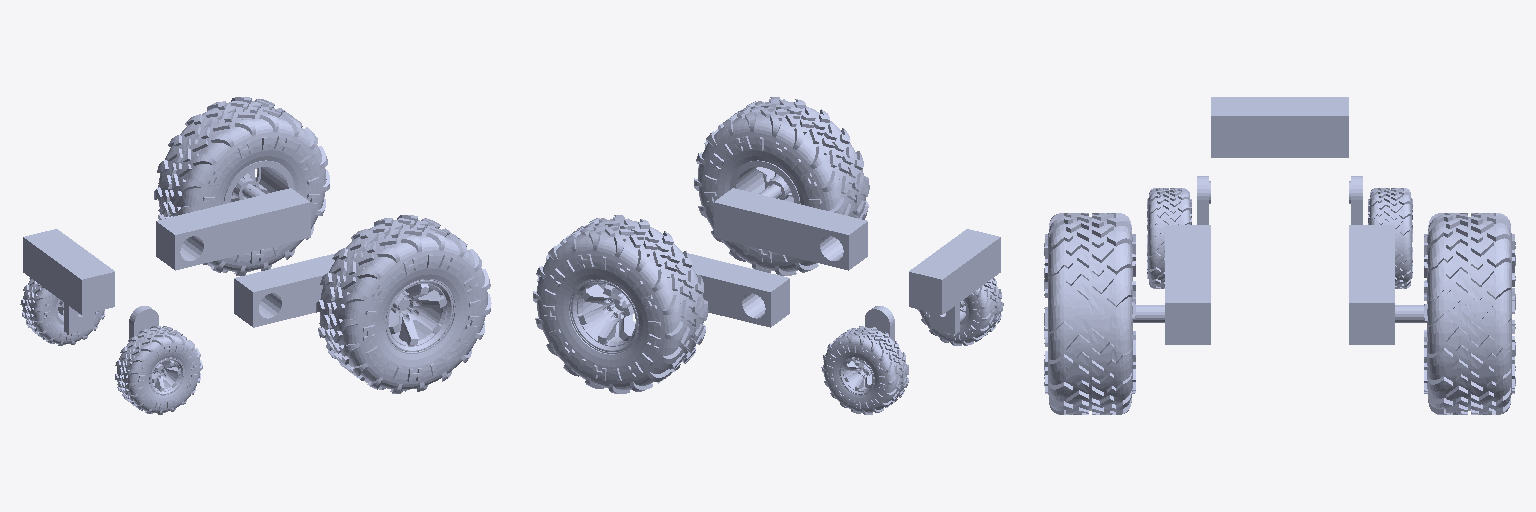
URDF robot description (optimus_front_down):
<?xml version="1.0" encoding="utf-8"?>
<!-- This URDF was automatically created by SolidWorks to URDF Exporter! Originally created by [author] ([email redacted]) 
     Commit Version: 1.6.0-1-g15f4949  Build Version: 1.6.7594.29634
     For more information, please see http://wiki.ros.org/sw_urdf_exporter -->
<robot
  name="optimus_front_down">
  <link
    name="optimus_front_down">
    <inertial>
      <origin
        xyz="-0.02527 -5.6758E-18 0.3"
        rpy="0 0 0" />
      <mass
        value="122.44" />
      <inertia
        ixx="4.8934"
        ixy="-7.3008E-17"
        ixz="-4.0117E-16"
        iyy="15.407"
        iyz="2.0119E-16"
        izz="11.325" />
    </inertial>
    <visual>
      <origin
        xyz="0 0 0"
        rpy="0 0 0" />
      <geometry>
        <mesh
          filename="package://optimus_front_down/meshes/optimus_front_down.STL" />
      </geometry>
      <material
        name="">
        <color
          rgba="0.79216 0.81961 0.93333 1" />
      </material>
    </visual>
    <collision>
      <origin
        xyz="0 0 0"
        rpy="0 0 0" />
      <geometry>
        <mesh
          filename="package://optimus_front_down/meshes/optimus_front_down.STL" />
      </geometry>
    </collision>
  </link>
  <link
    name="FR_outer_wheel_connector_link">
    <inertial>
      <origin
        xyz="0.322282451468766 -0.1 2.38352095543413E-17"
        rpy="0 0 0" />
      <mass
        value="27.9159295503332" />
      <inertia
        ixx="0.195546159327483"
        ixy="-5.51991460593637E-17"
        ixz="1.4203553273733E-17"
        iyy="1.42355930878676"
        iyz="4.16333634234392E-19"
        izz="1.4141193464615" />
    </inertial>
    <visual>
      <origin
        xyz="0 0 0"
        rpy="0 0 0" />
      <geometry>
        <mesh
          filename="package://optimus_front_down/meshes/FR_outer_wheel_connector_link.STL" />
      </geometry>
      <material
        name="">
        <color
          rgba="0.792156862745098 0.819607843137255 0.933333333333333 1" />
      </material>
    </visual>
    <collision>
      <origin
        xyz="0 0 0"
        rpy="0 0 0" />
      <geometry>
        <mesh
          filename="package://optimus_front_down/meshes/FR_outer_wheel_connector_link.STL" />
      </geometry>
    </collision>
  </link>
  
  <joint
    name="FR_outer_wheel_connector_joint"
    type="revolute">
    <origin
      xyz="0.4 -0.3 0"
      rpy="0 0 0" />
    <parent
      link="optimus_front_down" />
    <child
      link="FR_outer_wheel_connector_link" />
    <axis
      xyz="0 1 0" />
    <limit
      lower="0.0"
      upper="1.57"
      effort="100"
      velocity="100" />
  </joint>

  <transmission name="FR_outer_wheel_connector_trans">
    <type>transmission_interface/SimpleTransmission</type>
    <joint name="FR_outer_wheel_connector_joint">
      <hardwareInterface>hardware_interface/PositionJointInterface</hardwareInterface>
    </joint>
    <actuator name="FR_outer_wheel_connector_actuator">
      <mechanicalReduction>1</mechanicalReduction>
      <hardwareInterface>hardware_interface/PositionJointInterface</hardwareInterface>
    </actuator>
  </transmission>

  <link
    name="FR_outer_wheel_link">
    <inertial>
      <origin
        xyz="2.18856437395054E-06 -0.512347882208055 2.35883896340653E-06"
        rpy="0 0 0" />
      <mass
        value="41.7619829259394" />
      <inertia
        ixx="2.98739844435001"
        ixy="5.19731246049959E-06"
        ixz="9.47049445565518E-06"
        iyy="4.63242150319623"
        iyz="5.59291085026648E-06"
        izz="2.98739982714818" />
    </inertial>
    <visual>
      <origin
        xyz="0 0 0"
        rpy="0 0 0" />
      <geometry>
        <mesh
          filename="package://optimus_front_down/meshes/FR_outer_wheel_link.STL" />
      </geometry>
      <material
        name="">
        <color
          rgba="0.792156862745098 0.819607843137255 0.933333333333333 1" />
      </material>
    </visual>
    <collision>
      <origin
        xyz="0 0 0"
        rpy="0 0 0" />
      <geometry>
        <mesh
          filename="package://optimus_front_down/meshes/FR_outer_wheel_link.STL" />
      </geometry>
    </collision>
  </link>
  
  <joint
    name="FR_outer_wheel_joint"
    type="continuous">
    <origin
      xyz="0.6 0 0"
      rpy="0 0 0" />
    <parent
      link="FR_outer_wheel_connector_link" />
    <child
      link="FR_outer_wheel_link" />
    <axis
      xyz="0 1 0" />
  </joint>


  <transmission name="FR_outer_wheel_trans">
    <type>transmission_interface/SimpleTransmission</type>
    <joint name="FR_outer_wheel_joint">
      <hardwareInterface>hardware_interface/VelocityJointInterface</hardwareInterface>
    </joint>
    <actuator name="FR_outer_wheel_actuator">
      <mechanicalReduction>50</mechanicalReduction>
      <hardwareInterface>hardware_interface/VelocityJointInterface</hardwareInterface>
    </actuator>
  </transmission>

  <link
    name="FL_outer_wheel_connector_link">
    <inertial>
      <origin
        xyz="0.322282451468765 0.1 5.3569245319562E-17"
        rpy="0 0 0" />
      <mass
        value="27.9159295503333" />
      <inertia
        ixx="0.195546159327483"
        ixy="-2.09846168286331E-17"
        ixz="7.16001224236828E-17"
        iyy="1.42355930878677"
        iyz="2.044660737018E-17"
        izz="1.4141193464615" />
    </inertial>
    <visual>
      <origin
        xyz="0 0 0"
        rpy="0 0 0" />
      <geometry>
        <mesh
          filename="package://optimus_front_down/meshes/FL_outer_wheel_connector_link.STL" />
      </geometry>
      <material
        name="">
        <color
          rgba="0.792156862745098 0.819607843137255 0.933333333333333 1" />
      </material>
    </visual>
    <collision>
      <origin
        xyz="0 0 0"
        rpy="0 0 0" />
      <geometry>
        <mesh
          filename="package://optimus_front_down/meshes/FL_outer_wheel_connector_link.STL" />
      </geometry>
    </collision>
  </link>
  
  <joint
    name="FL_outer_wheel_connector_joint"
    type="revolute">
    <origin
      xyz="0.4 0.3 0"
      rpy="0 0 0" />
    <parent
      link="optimus_front_down" />
    <child
      link="FL_outer_wheel_connector_link" />
    <axis
      xyz="0 1 0" />
    <limit
      lower="0"
      upper="1.57"
      effort="100"
      velocity="100" />
  </joint>

  <transmission name="FL_outer_wheel_connector_trans">
    <type>transmission_interface/SimpleTransmission</type>
    <joint name="FL_outer_wheel_connector_joint">
      <hardwareInterface>hardware_interface/PositionJointInterface</hardwareInterface>
    </joint>
    <actuator name="FL_outer_wheel_connector_actuator">
      <mechanicalReduction>1</mechanicalReduction>
      <hardwareInterface>hardware_interface/PositionJointInterface</hardwareInterface>
    </actuator>
  </transmission>

  <link
    name="FL_outer_wheel_link">
    <inertial>
      <origin
        xyz="-1.93900962541793E-06 0.512347882001405 2.56779508268048E-06"
        rpy="0 0 0" />
      <mass
        value="41.7619827337532" />
      <inertia
        ixx="2.98739655561663"
        ixy="4.60587625730364E-06"
        ixz="-9.13843104496429E-06"
        iyy="4.63242150289247"
        iyz="-6.08912613205442E-06"
        izz="2.98740171544462" />
    </inertial>
    <visual>
      <origin
        xyz="0 0 0"
        rpy="0 0 0" />
      <geometry>
        <mesh
          filename="package://optimus_front_down/meshes/FL_outer_wheel_link.STL" />
      </geometry>
      <material
        name="">
        <color
          rgba="0.792156862745098 0.819607843137255 0.933333333333333 1" />
      </material>
    </visual>
    <collision>
      <origin
        xyz="0 0 0"
        rpy="0 0 0" />
      <geometry>
        <mesh
          filename="package://optimus_front_down/meshes/FL_outer_wheel_link.STL" />
      </geometry>
    </collision>
  </link>
  
  <joint
    name="FL_outer_wheel_joint"
    type="continuous">
    <origin
      xyz="0.6 0 0"
      rpy="0 0 0" />
    <parent
      link="FL_outer_wheel_connector_link" />
    <child
      link="FL_outer_wheel_link" />
    <axis
      xyz="0 1 0" />
  </joint>

  <transmission name="FL_outer_wheel_trans">
    <type>transmission_interface/SimpleTransmission</type>
    <joint name="FL_outer_wheel_joint">
      <hardwareInterface>hardware_interface/VelocityJointInterface</hardwareInterface>
    </joint>
    <actuator name="FL_outer_wheel_actuator">
      <mechanicalReduction>50</mechanicalReduction>
      <hardwareInterface>hardware_interface/VelocityJointInterface</hardwareInterface>
    </actuator>
  </transmission>

  <link
    name="FR_inner_wheel_connector_link">
    <inertial>
      <origin
        xyz="0 -0.034175 -0.12462"
        rpy="0 0 0" />
      <mass
        value="2.8575" />
      <inertia
        ixx="0.035811"
        ixy="-2.7361E-21"
        ixz="2.9604E-19"
        iyy="0.040326"
        iyz="-0.00029364"
        izz="0.0058124" />
    </inertial>
    <visual>
      <origin
        xyz="0 0 0"
        rpy="0 0 0" />
      <geometry>
        <mesh
          filename="package://optimus_front_down/meshes/FR_inner_wheel_connector_link.STL" />
      </geometry>
      <material
        name="">
        <color
          rgba="0.79216 0.81961 0.93333 1" />
      </material>
    </visual>
    <collision>
      <origin
        xyz="0 0 0"
        rpy="0 0 0" />
      <geometry>
        <mesh
          filename="package://optimus_front_down/meshes/FR_inner_wheel_connector_link.STL" />
      </geometry>
    </collision>
  </link>
  
  <joint
    name="FR_inner_wheel_connector_joint"
    type="revolute">
    <origin
      xyz="-0.25 -0.3 0"
      rpy="0 0 0" />
    <parent
      link="optimus_front_down" />
    <child
      link="FR_inner_wheel_connector_link" />
    <axis
      xyz="0 -1 0" />
    <limit
      lower="0"
      upper="1.57"
      effort="100"
      velocity="100" />
  </joint>

  <transmission name="FR_inner_wheel_connector_trans">
    <type>transmission_interface/SimpleTransmission</type>
    <joint name="FR_inner_wheel_connector_joint">
      <hardwareInterface>hardware_interface/PositionJointInterface</hardwareInterface>
    </joint>
    <actuator name="FR_inner_wheel_connector_actuator">
      <mechanicalReduction>1</mechanicalReduction>
      <hardwareInterface>hardware_interface/PositionJointInterface</hardwareInterface>
    </actuator>
  </transmission>

  <link
    name="FR_inner_wheel_link">
    <inertial>
      <origin
        xyz="3.1417E-07 -0.12256 -3.3367E-06"
        rpy="0 0 0" />
      <mass
        value="5.005" />
      <inertia
        ixx="0.092406"
        ixy="2.2156E-08"
        ixz="-5.4838E-08"
        iyy="0.14472"
        iyz="-2.3756E-07"
        izz="0.092407" />
    </inertial>
    <visual>
      <origin
        xyz="0 0 0"
        rpy="0 0 0" />
      <geometry>
        <mesh
          filename="package://optimus_front_down/meshes/FR_inner_wheel_link.STL" />
      </geometry>
      <material
        name="">
        <color
          rgba="0.79216 0.81961 0.93333 1" />
      </material>
    </visual>
    <collision>
      <origin
        xyz="0 0 0"
        rpy="0 0 0" />
      <geometry>
        <mesh
          filename="package://optimus_front_down/meshes/FR_inner_wheel_link.STL" />
      </geometry>
    </collision>
  </link>
  
  <joint
    name="FR_inner_wheel_joint"
    type="continuous">
    <origin
      xyz="0 -0.06 -0.22"
      rpy="0 0 0" />
    <parent
      link="FR_inner_wheel_connector_link" />
    <child
      link="FR_inner_wheel_link" />
    <axis
      xyz="0 1 0" />
  </joint>

  <transmission name="FR_inner_wheel_trans">
    <type>transmission_interface/SimpleTransmission</type>
    <joint name="FR_inner_wheel_joint">
      <hardwareInterface>hardware_interface/VelocityJointInterface</hardwareInterface>
    </joint>
    <actuator name="FR_inner_wheel_actuator">
      <mechanicalReduction>50</mechanicalReduction>
      <hardwareInterface>hardware_interface/VelocityJointInterface</hardwareInterface>
    </actuator>
  </transmission>

  <link
    name="FL_inner_wheel_connector_link">
    <inertial>
      <origin
        xyz="0 0.0341754333918177 -0.124624737169442"
        rpy="0 0 0" />
      <mass
        value="2.85749443017902" />
      <inertia
        ixx="0.03581067609395"
        ixy="2.2681718422821E-19"
        ixz="7.26756049753325E-19"
        iyy="0.0403263961411894"
        iyz="0.000293640119060309"
        izz="0.00581241279075831" />
    </inertial>
    <visual>
      <origin
        xyz="0 0 0"
        rpy="0 0 0" />
      <geometry>
        <mesh
          filename="package://optimus_front_down/meshes/FL_inner_wheel_connector_link.STL" />
      </geometry>
      <material
        name="">
        <color
          rgba="0.792156862745098 0.819607843137255 0.933333333333333 1" />
      </material>
    </visual>
    <collision>
      <origin
        xyz="0 0 0"
        rpy="0 0 0" />
      <geometry>
        <mesh
          filename="package://optimus_front_down/meshes/FL_inner_wheel_connector_link.STL" />
      </geometry>
    </collision>
  </link>
  
  <joint
    name="FL_inner_wheel_connector_joint"
    type="revolute">
    <origin
      xyz="-0.25 0.3 0"
      rpy="0 0 0" />
    <parent
      link="optimus_front_down" />
    <child
      link="FL_inner_wheel_connector_link" />
    <axis
      xyz="0 -1 0" />
    <limit
      lower="0"
      upper="1.57"
      effort="100"
      velocity="100" />
  </joint>

  <transmission name="FL_inner_wheel_connector_trans">
    <type>transmission_interface/SimpleTransmission</type>
    <joint name="FL_inner_wheel_connector_joint">
      <hardwareInterface>hardware_interface/PositionJointInterface</hardwareInterface>
    </joint>
    <actuator name="FL_inner_wheel_connector_actuator">
      <mechanicalReduction>1</mechanicalReduction>
      <hardwareInterface>hardware_interface/PositionJointInterface</hardwareInterface>
    </actuator>
  </transmission>

  <link
    name="FL_inner_wheel_link">
    <inertial>
      <origin
        xyz="3.34954893538297E-06 0.122556779088173 1.14327129707714E-07"
        rpy="0 0 0" />
      <mass
        value="5.00504892402156" />
      <inertia
        ixx="0.0924069629896759"
        ixy="-2.38446525583343E-07"
        ixz="2.07915727398644E-08"
        iyy="0.144720367920823"
        iyz="-8.34954545501746E-09"
        izz="0.0924063709688521" />
    </inertial>
    <visual>
      <origin
        xyz="0 0 0"
        rpy="0 0 0" />
      <geometry>
        <mesh
          filename="package://optimus_front_down/meshes/FL_inner_wheel_link.STL" />
      </geometry>
      <material
        name="">
        <color
          rgba="0.792156862745098 0.819607843137255 0.933333333333333 1" />
      </material>
    </visual>
    <collision>
      <origin
        xyz="0 0 0"
        rpy="0 0 0" />
      <geometry>
        <mesh
          filename="package://optimus_front_down/meshes/FL_inner_wheel_link.STL" />
      </geometry>
    </collision>
  </link>
  
  <joint
    name="FL_inner_wheel_joint"
    type="continuous">
    <origin
      xyz="0 0.06 -0.22"
      rpy="0 0 0" />
    <parent
      link="FL_inner_wheel_connector_link" />
    <child
      link="FL_inner_wheel_link" />
    <axis
      xyz="0 1 0" />
  </joint>

  <transmission name="FL_inner_wheel_trans">
    <type>transmission_interface/SimpleTransmission</type>
    <joint name="FL_inner_wheel_joint">
      <hardwareInterface>hardware_interface/VelocityJointInterface</hardwareInterface>
    </joint>
    <actuator name="FL_inner_wheel_actuator">
      <mechanicalReduction>50</mechanicalReduction>
      <hardwareInterface>hardware_interface/VelocityJointInterface</hardwareInterface>
    </actuator>
  </transmission>

  <link
    name="docker_link">
    <inertial>
      <origin
        xyz="0.00457179609915487 -5.55111512312578E-17 -0.1"
        rpy="0 0 0" />
      <mass
        value="21.9893807017026" />
      <inertia
        ixx="0.747254753741331"
        ixy="-2.50188335491672E-17"
        ixz="1.02569795042368E-17"
        iyy="0.147007532634037"
        iyz="-3.46944695195361E-17"
        izz="0.747666415030684" />
    </inertial>
    <visual>
      <origin
        xyz="0 0 0"
        rpy="0 0 0" />
      <geometry>
        <mesh
          filename="package://optimus_front_down/meshes/docker_link.STL" />
      </geometry>
      <material
        name="">
        <color
          rgba="0.792156862745098 0.819607843137255 0.933333333333333 1" />
      </material>
    </visual>
    <collision>
      <origin
        xyz="0 0 0"
        rpy="0 0 0" />
      <geometry>
        <mesh
          filename="package://optimus_front_down/meshes/docker_link.STL" />
      </geometry>
    </collision>
  </link>
  
  <joint
    name="docker_joint"
    type="fixed">
    <origin
      xyz="-0.5 0 0.3"
      rpy="0 0 0" />
    <parent
      link="optimus_front_down" />
    <child
      link="docker_link" />
    <axis
      xyz="0 0 0" />
  </joint>

  <link
    name="R_docker_shaft_link">
    <inertial>
      <origin
        xyz="0 0 -0.1"
        rpy="0 0 0" />
      <mass
        value="1.00530964914873" />
      <inertia
        ixx="0.00375315602348861"
        ixy="-4.65868120989865E-20"
        ixz="-4.51750905202294E-20"
        iyy="0.00375315602348861"
        iyz="5.94108282522193E-36"
        izz="0.000804247719318987" />
    </inertial>
    <visual>
      <origin
        xyz="0 0 0"
        rpy="0 0 0" />
      <geometry>
        <mesh
          filename="package://optimus_front_down/meshes/R_docker_shaft_link.STL" />
      </geometry>
      <material
        name="">
        <color
          rgba="0.792156862745098 0.819607843137255 0.933333333333333 1" />
      </material>
    </visual>
    <collision>
      <origin
        xyz="0 0 0"
        rpy="0 0 0" />
      <geometry>
        <mesh
          filename="package://optimus_front_down/meshes/R_docker_shaft_link.STL" />
      </geometry>
    </collision>
  </link>
  
  <joint
    name="R_docker_shaft_joint"
    type="prismatic">
    <origin
      xyz="-0.05 -0.15 0"
      rpy="0 0 0" />
    <parent
      link="docker_link" />
    <child
      link="R_docker_shaft_link" />
    <axis
      xyz="0 0 1" />
    <limit
      lower="-0.2"
      upper="0"
      effort="10"
      velocity="10" />
  </joint>

  <transmission name="R_docker_shaft_trans">
    <type>transmission_interface/SimpleTransmission</type>
    <joint name="R_docker_shaft_joint">
      <hardwareInterface>hardware_interface/PositionJointInterface</hardwareInterface>
    </joint>
    <actuator name="R_docker_shaft_actuator">
      <mechanicalReduction>1</mechanicalReduction>
      <hardwareInterface>hardware_interface/PositionJointInterface</hardwareInterface>
    </actuator>
  </transmission>

  <link
    name="L_docker_shaft_link">
    <inertial>
      <origin
        xyz="0 -1.11022302462516E-16 -0.1"
        rpy="0 0 0" />
      <mass
        value="1.00530964914873" />
      <inertia
        ixx="0.00375315602348861"
        ixy="-1.05879118406788E-21"
        ixz="4.35072173462046E-36"
        iyy="0.00375315602348861"
        iyz="1.17695383951691E-35"
        izz="0.000804247719318987" />
    </inertial>
    <visual>
      <origin
        xyz="0 0 0"
        rpy="0 0 0" />
      <geometry>
        <mesh
          filename="package://optimus_front_down/meshes/L_docker_shaft_link.STL" />
      </geometry>
      <material
        name="">
        <color
          rgba="0.792156862745098 0.819607843137255 0.933333333333333 1" />
      </material>
    </visual>
    <collision>
      <origin
        xyz="0 0 0"
        rpy="0 0 0" />
      <geometry>
        <mesh
          filename="package://optimus_front_down/meshes/L_docker_shaft_link.STL" />
      </geometry>
    </collision>
  </link>
  
  <joint
    name="L_docker_shaft_joint"
    type="prismatic">
    <origin
      xyz="-0.05 0.15 0"
      rpy="0 0 0" />
    <parent
      link="docker_link" />
    <child
      link="L_docker_shaft_link" />
    <axis
      xyz="0 0 1" />
    <limit
      lower="-0.2"
      upper="0"
      effort="0"
      velocity="0" />
  </joint>

  <transmission name="L_docker_shaft_trans">
    <type>transmission_interface/SimpleTransmission</type>
    <joint name="L_docker_shaft_joint">
      <hardwareInterface>hardware_interface/PositionJointInterface</hardwareInterface>
    </joint>
    <actuator name="L_docker_shaft_actuator">
      <mechanicalReduction>1</mechanicalReduction>
      <hardwareInterface>hardware_interface/PositionJointInterface</hardwareInterface>
    </actuator>
  </transmission>

  <gazebo>
    <plugin filename="libgazebo_ros_control.so" name="gazebo_ros_control">
      <robotNamespace>/</robotNamespace>
      <robotSimType>gazebo_ros_control/DefaultRobotHWSim</robotSimType>
      <legacyModeNS>true</legacyModeNS>
    </plugin>
  </gazebo>
</robot>

--- What the picture shows (computed from the rendered views, not written in the file) ---
3 views of the same robot in one strip: view 1: azimuth 30°, elevation 25°; view 2: azimuth 150°, elevation 25°; view 3: azimuth 270°, elevation 25° (orthographic).
Robot: optimus_front_down — 12 links, 11 joints (4 revolute, 4 continuous, 2 prismatic, 1 fixed); root link optimus_front_down; default pose: every joint at zero.
Visible links, largest first — view 1: FR_outer_wheel_link, FL_outer_wheel_link, FL_outer_wheel_connector_link, FR_inner_wheel_link, docker_link, FR_outer_wheel_connector_link, FL_inner_wheel_link, FR_inner_wheel_connector_link, FL_inner_wheel_connector_link; view 2: FL_outer_wheel_link, FR_outer_wheel_link, FR_outer_wheel_connector_link, FL_inner_wheel_link, docker_link, FL_outer_wheel_connector_link, FR_inner_wheel_link, FL_inner_wheel_connector_link, FR_inner_wheel_connector_link; view 3: FR_outer_wheel_link, FL_outer_wheel_link, docker_link, FR_outer_wheel_connector_link, FL_outer_wheel_connector_link, FR_inner_wheel_link, FL_inner_wheel_link, FR_inner_wheel_connector_link, FL_inner_wheel_connector_link.
Link boxes in pixels (x1,y1,x2,y2): FR_outer_wheel_link: (316, 215, 491, 393); FL_outer_wheel_link: (154, 97, 329, 275); FL_outer_wheel_connector_link: (156, 188, 310, 270); FR_inner_wheel_link: (115, 326, 202, 414); docker_link: (23, 229, 114, 314); FR_outer_wheel_connector_link: (234, 253, 335, 327); FL_inner_wheel_link: (20, 278, 104, 345); FR_inner_wheel_connector_link: (129, 306, 158, 338); FL_inner_wheel_connector_link: (64, 303, 93, 334); FL_outer_wheel_link: (533, 215, 708, 393); FR_outer_wheel_link: (694, 97, 869, 275); FR_outer_wheel_connector_link: (714, 188, 867, 270); FL_inner_wheel_link: (821, 326, 908, 414); docker_link: (909, 229, 1000, 314); FL_outer_wheel_connector_link: (688, 253, 789, 327); FR_inner_wheel_link: (917, 278, 1003, 345); FL_inner_wheel_connector_link: (865, 306, 894, 341); FR_inner_wheel_connector_link: (930, 303, 959, 334); FR_outer_wheel_link: (1044, 213, 1164, 414); FL_outer_wheel_link: (1395, 213, 1515, 414); docker_link: (1211, 97, 1348, 157); FR_outer_wheel_connector_link: (1165, 225, 1210, 344); FL_outer_wheel_connector_link: (1349, 225, 1394, 344); FR_inner_wheel_link: (1147, 188, 1191, 288); FL_inner_wheel_link: (1368, 188, 1412, 288); FR_inner_wheel_connector_link: (1197, 176, 1210, 224); FL_inner_wheel_connector_link: (1349, 176, 1362, 224).
Bounding box of the posed robot: 2.04 × 2.05 × 0.8842 m (x, y, z).
Meshes: 12 distinct files referenced, 11 mesh visuals loaded (11 binary STL); not drawn: 1 (reference not matched to a file when rendering).